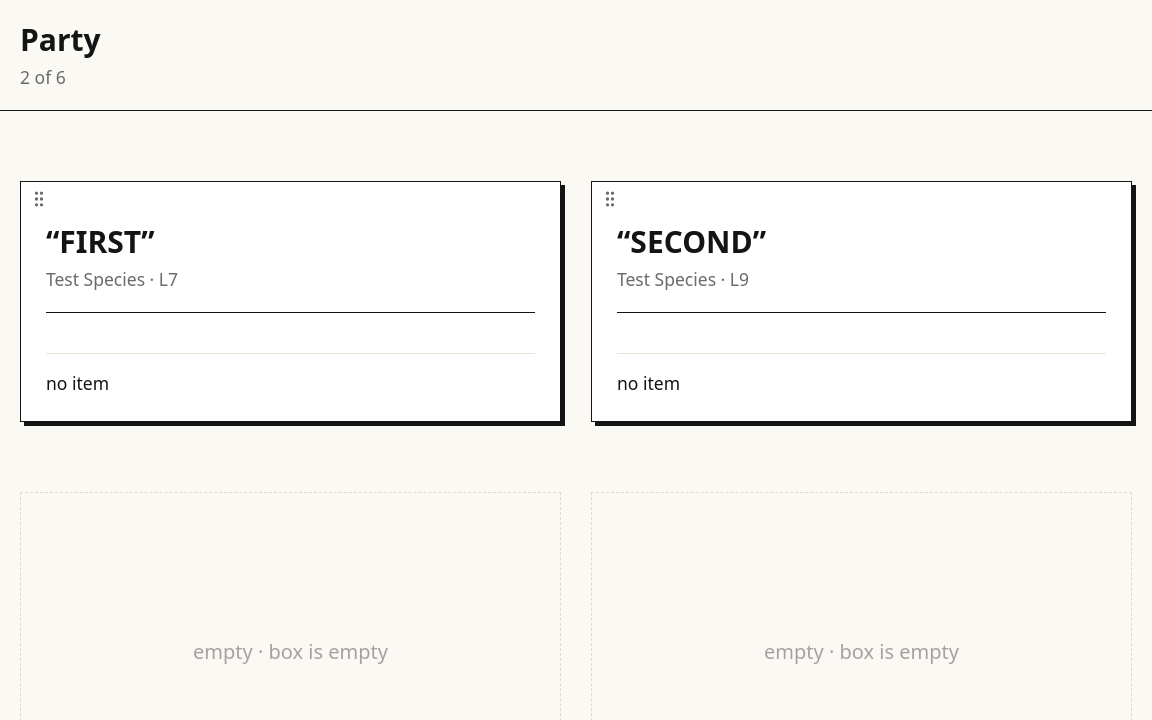
Test: PartyScreen › opens the edit dialog for the tapped mon, and a saved level shows on its card
Click the button named "Edit “Second”" at (862, 301), box [592,182,1131,421]
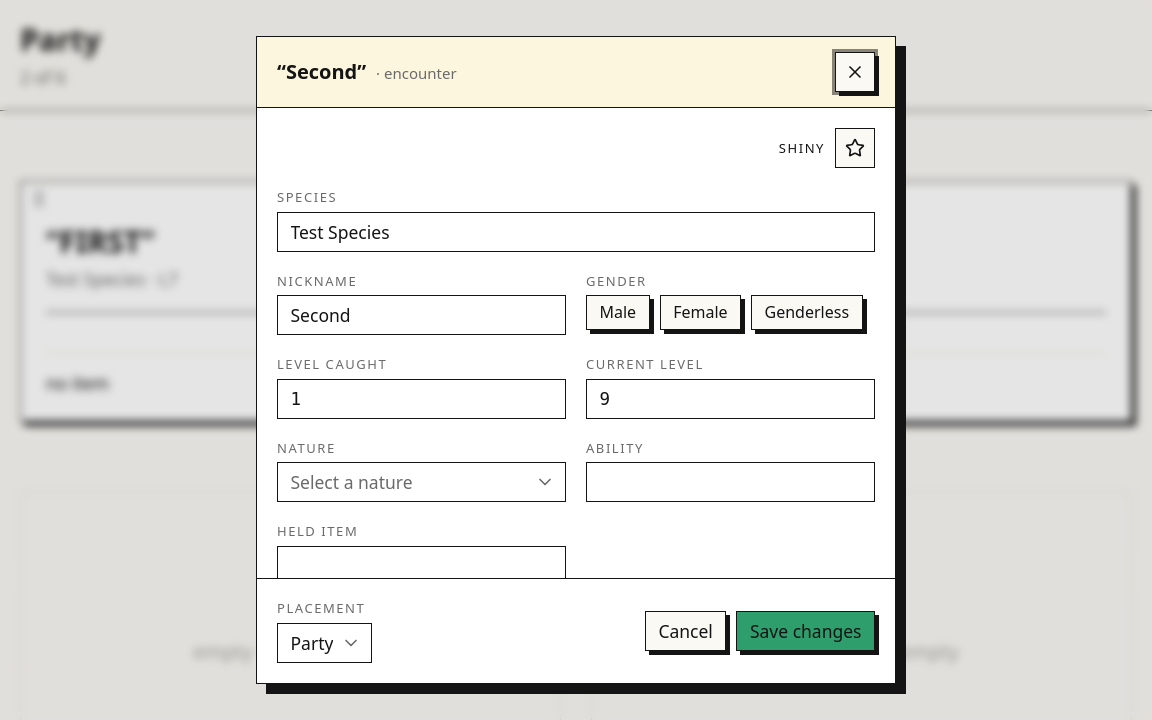
Now the field labelled "Current level" holds "9"
Replace the text in the field labelled "Current level" with "12" at (730, 399), box [586,379,875,419]
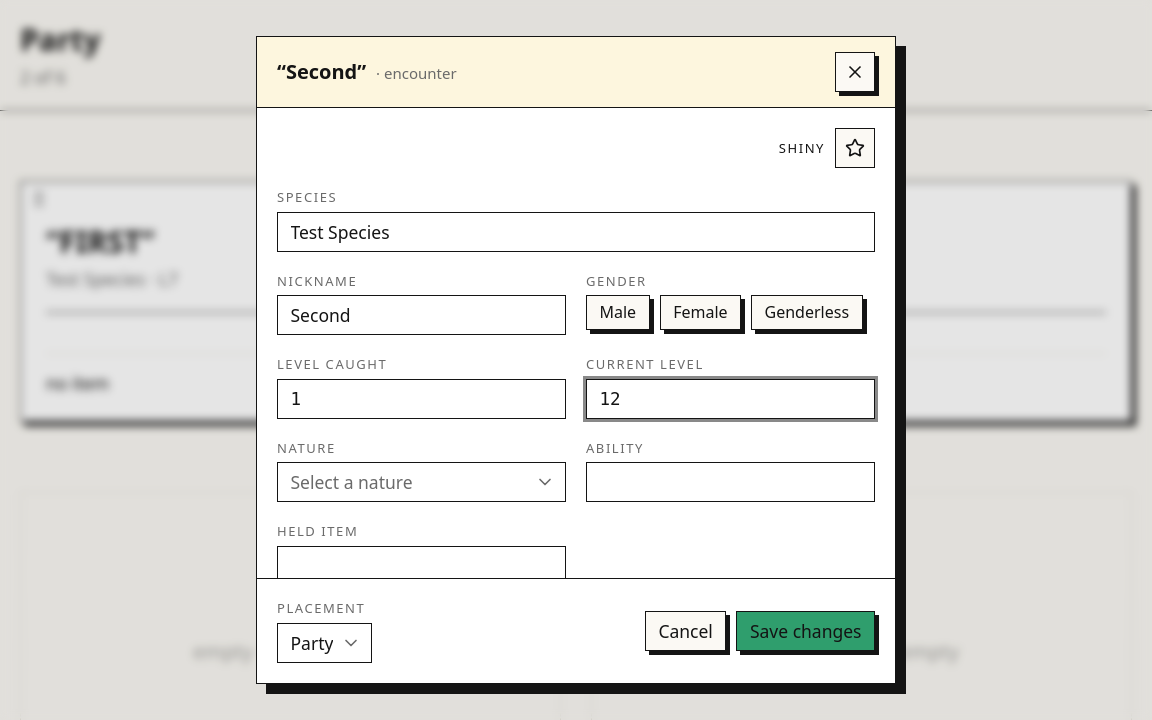
Click the button "Save changes" at (806, 631), box [736,611,875,651]
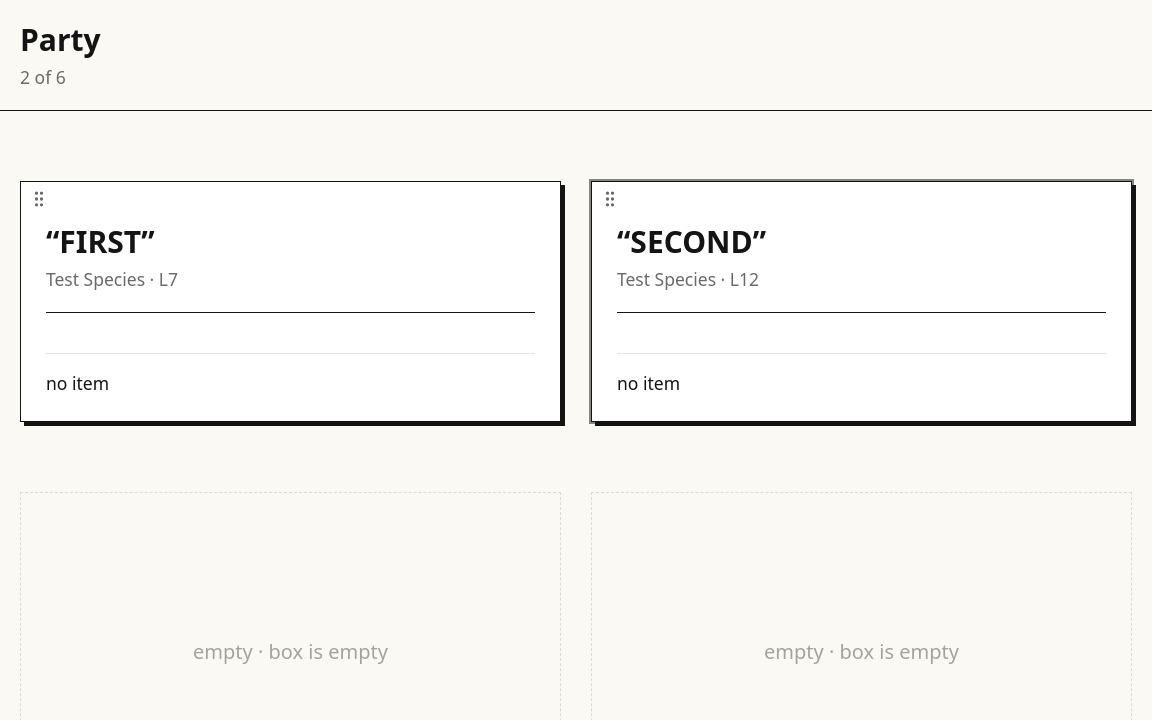
Expected: the text "Test Species · L7" is shown, [46,267,178,291]
Now the text "Test Species · L12" is shown, box [617,267,759,291]
Now the dialog is gone
